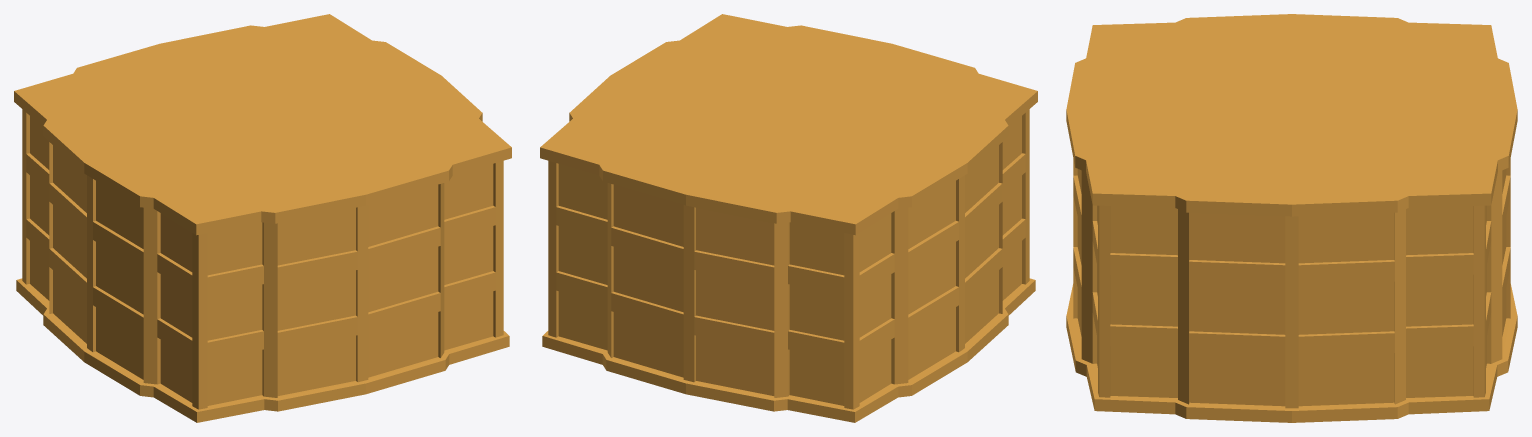
The model's file is skyscraper2-part-middle.fbx.
3 renders of one model, left to right at view 1: azimuth 30°, elevation 25°; view 2: azimuth 150°, elevation 25°; view 3: azimuth 270°, elevation 25°, orthographic. The views are drawn at different scales.
Parts seen in each view (by area): view 1: skyscraper2-part-middle; view 2: skyscraper2-part-middle; view 3: skyscraper2-part-middle.
Boxes of the visible parts, x1,y1,x2,y2 form: skyscraper2-part-middle: [14, 14, 511, 422]; skyscraper2-part-middle: [540, 14, 1037, 422]; skyscraper2-part-middle: [1066, 14, 1517, 422].
Bounding box in the file's own units: 20.6 × 11 × 20.6.
